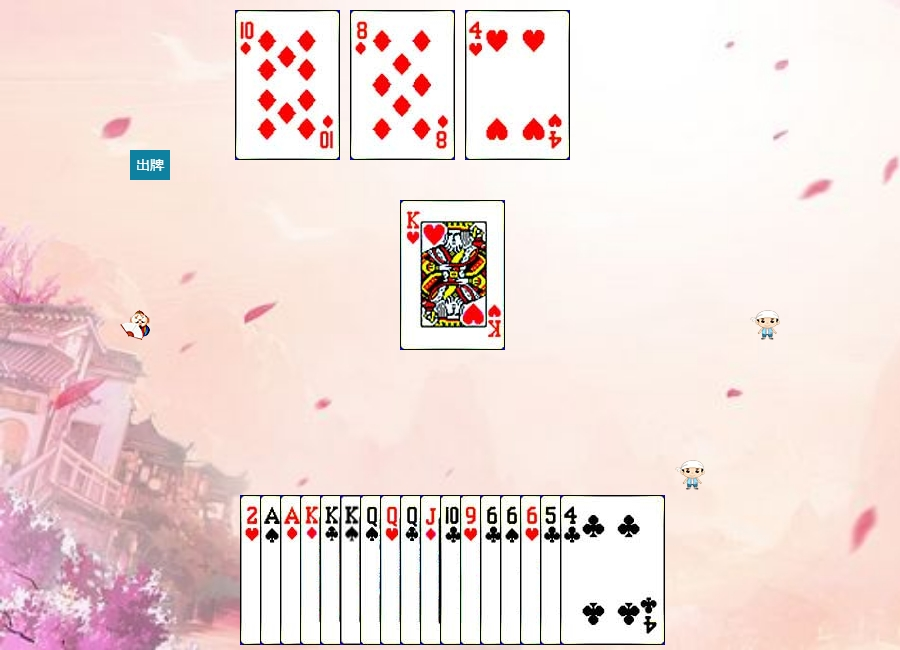10~1: (235, 10, 340, 160)
10~2: (440, 495, 545, 645)
11~1: (420, 495, 525, 645)
12~2: (400, 495, 505, 645)
12~3: (380, 495, 485, 645)
12~4: (360, 495, 465, 645)
13~1: (300, 495, 405, 645)
13~2: (320, 495, 425, 645)
13~3: (400, 200, 505, 350)
13~4: (340, 495, 445, 645)
14~1: (280, 495, 385, 645)
14~4: (260, 495, 365, 645)
15~3: (240, 495, 345, 645)
4~2: (560, 495, 665, 645)
4~3: (465, 10, 570, 160)
5~2: (540, 495, 645, 645)
6~2: (480, 495, 585, 645)
6~3: (520, 495, 625, 645)
6~4: (500, 495, 605, 645)
8~1: (350, 10, 455, 160)
9~3: (460, 495, 565, 645)
